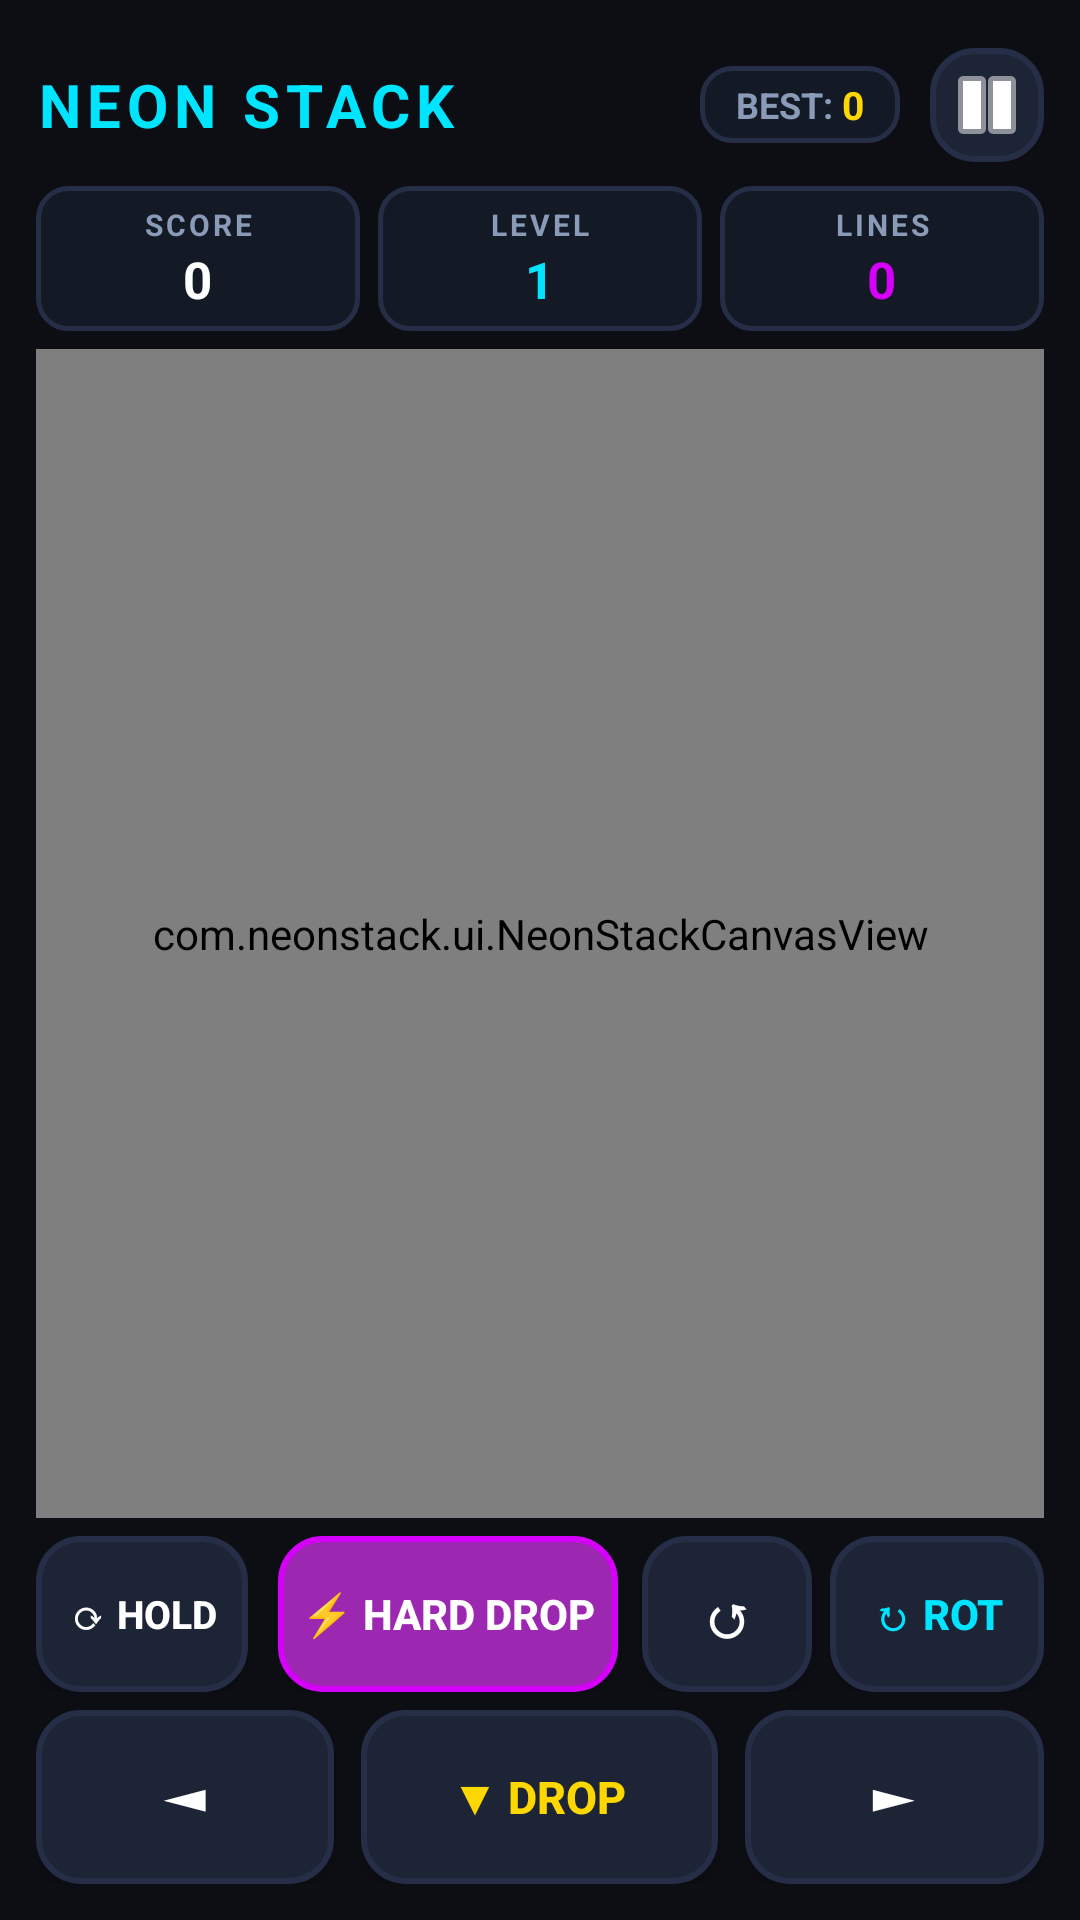

Icon click points for this 1080w x 1920h phone screenshot, format point (x, y):
PAUSE: point (987, 105)
